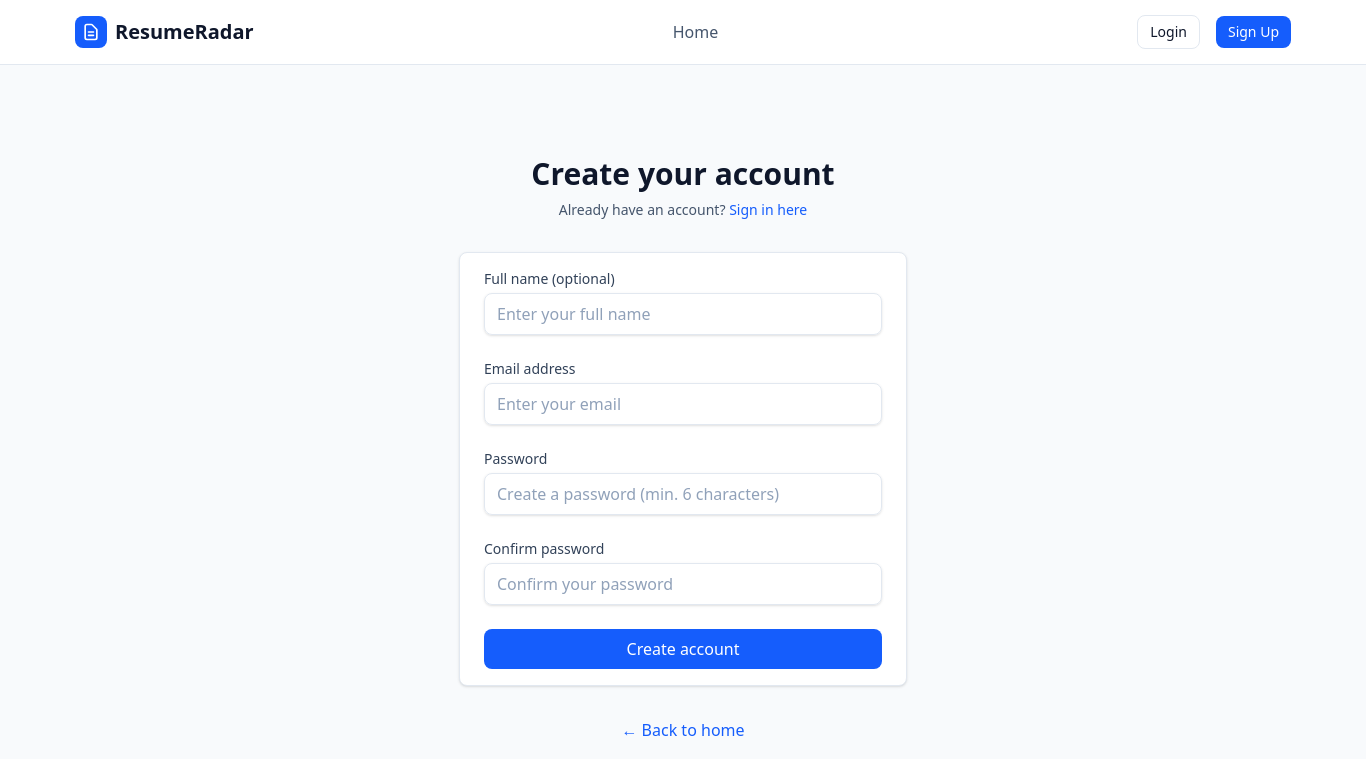
Test case: Authentication Flow › Registration › should show error for mismatched passwords
Type "test@example.com" into the field with placeholder "Enter your email" at (683,404), box [484,383,882,425]
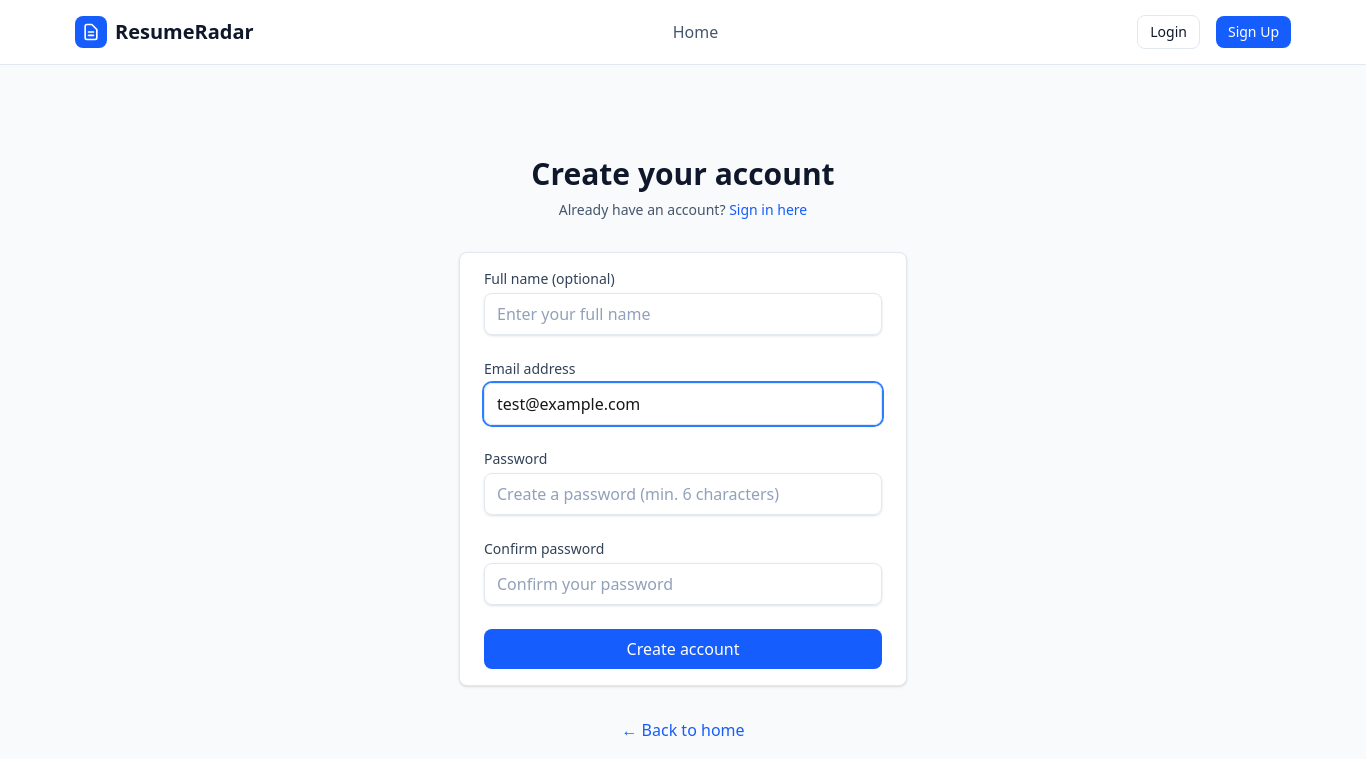
Type "testpassword123" into the password field with placeholder "Create a password (min. 6 characters)" at (683,494), box [484,473,882,515]
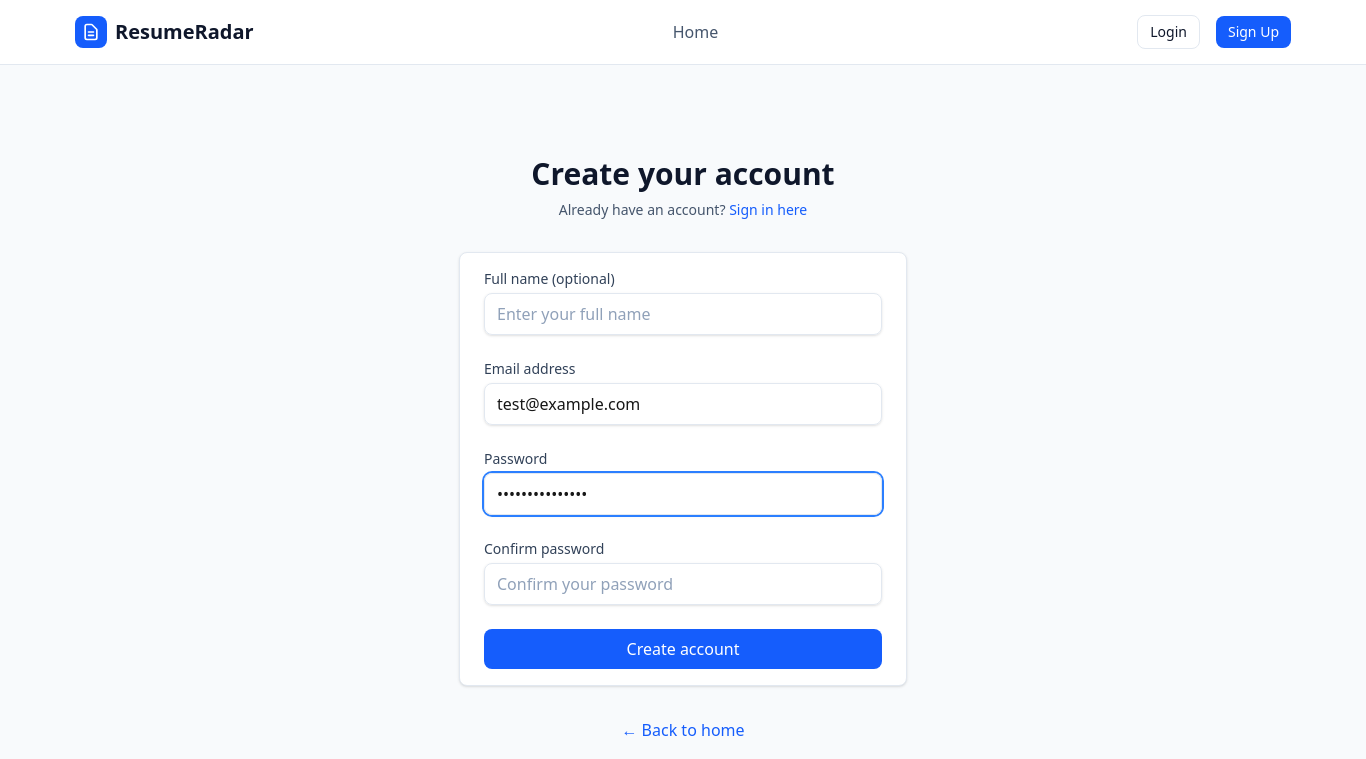
Type "differentpassword" into the password field with placeholder "Confirm your password" at (683,584), box [484,563,882,605]
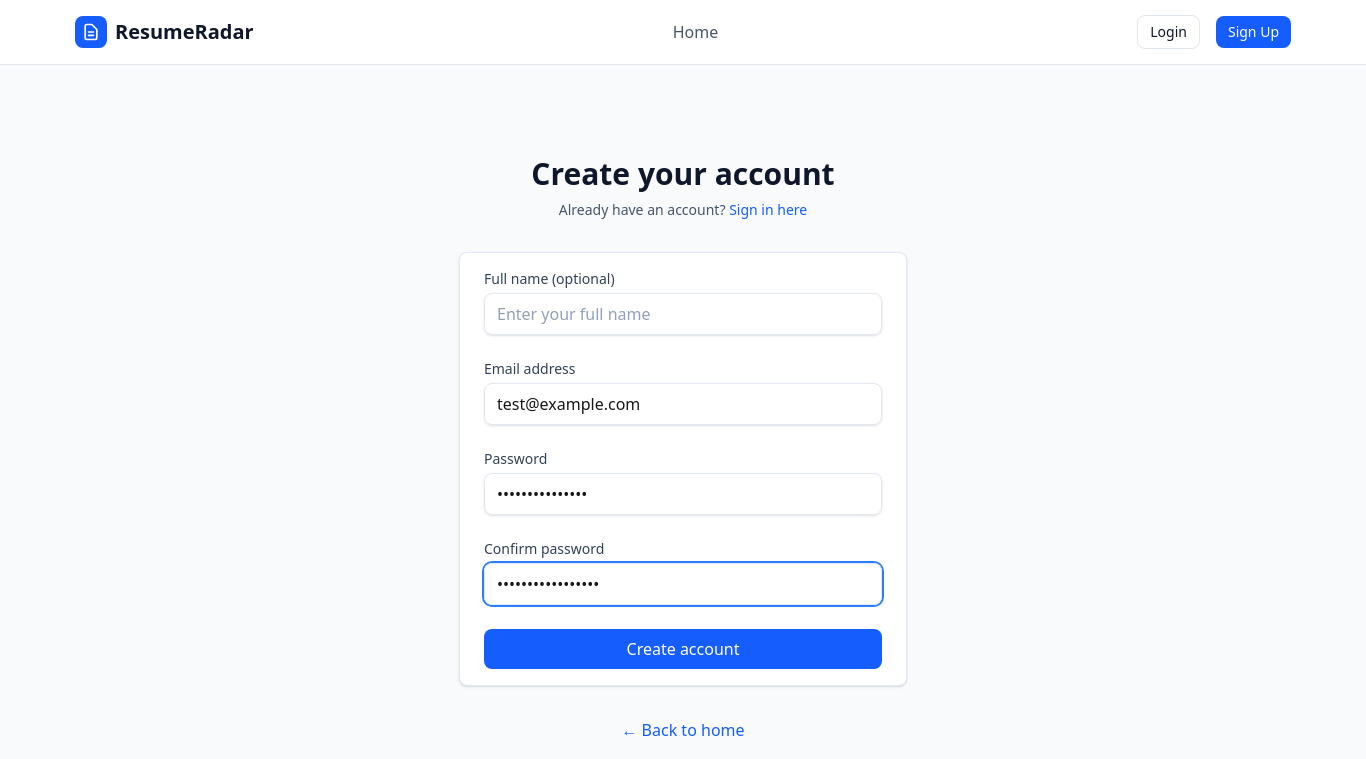
Click the submit button at (683,649), box [484,629,882,669]
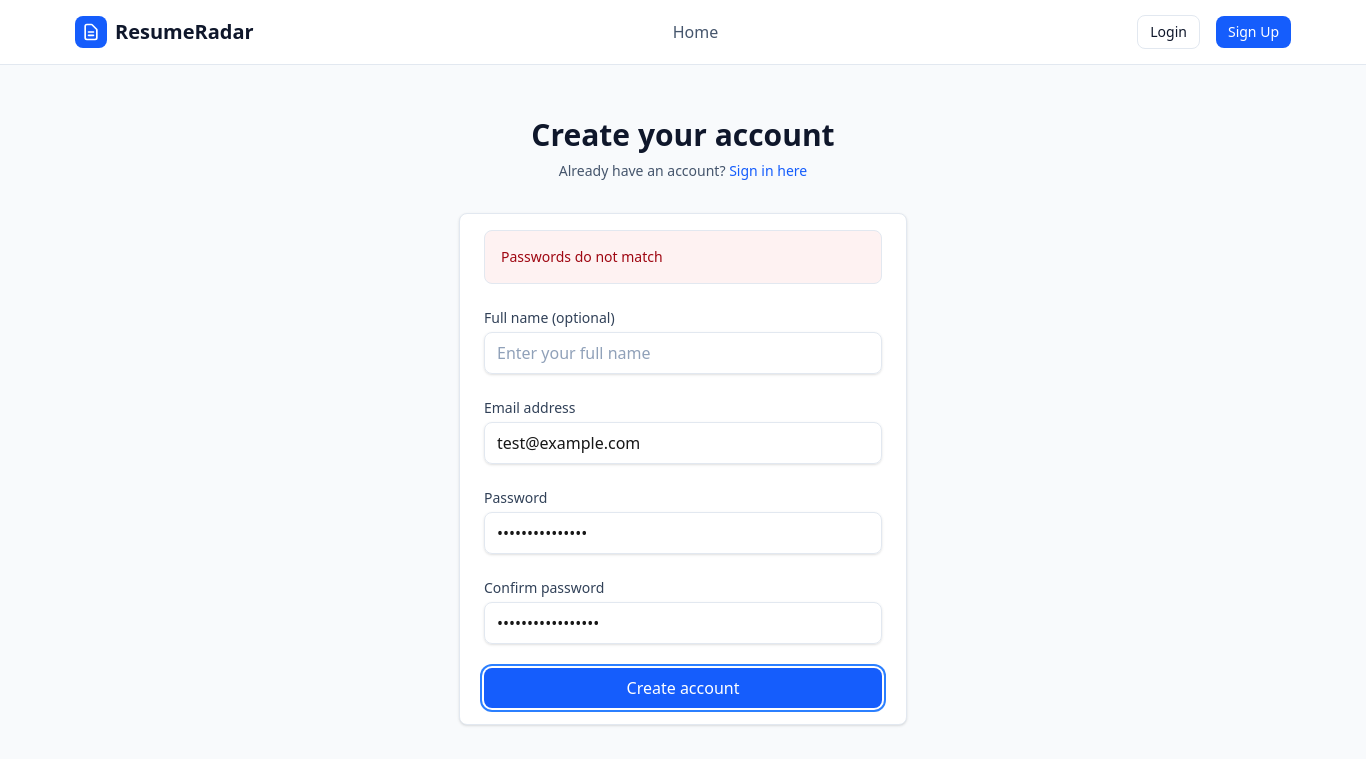
Result: the text "Passwords do not match" is shown at [501,247,663,266]
